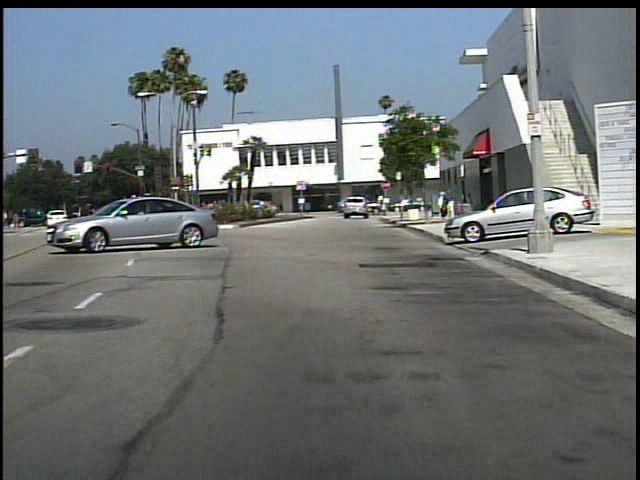person: (444, 188, 459, 224), (462, 190, 478, 222), (378, 191, 392, 219), (437, 192, 447, 220)
